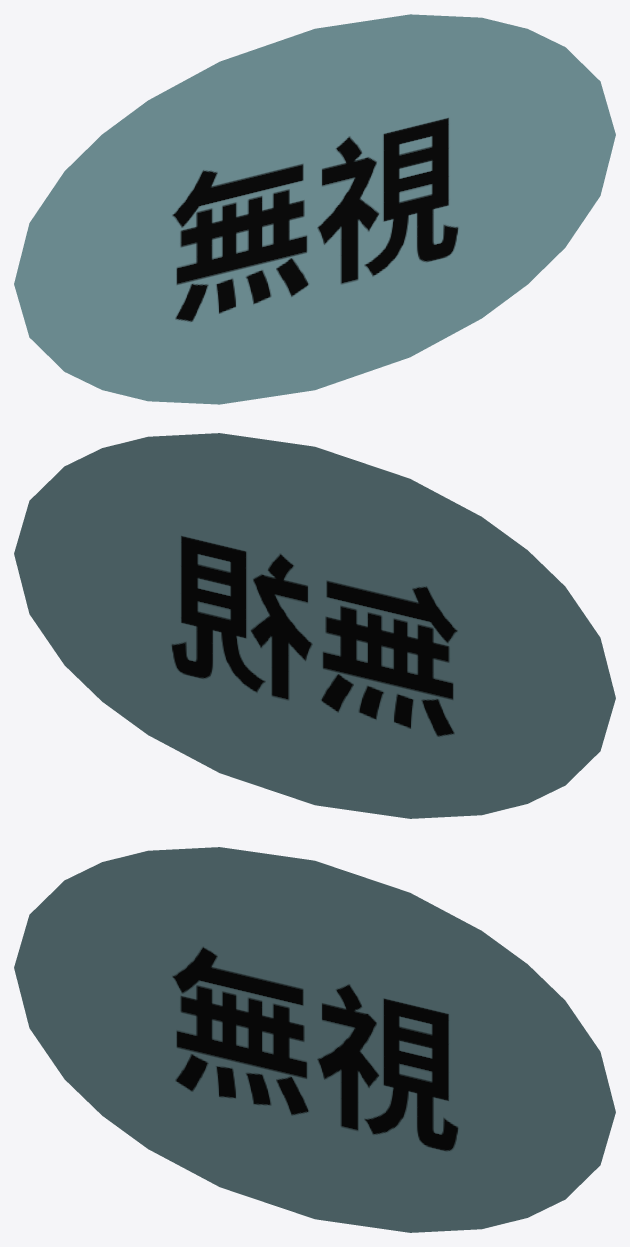
The picture shows the model from 3 angles, top to bottom: view 1: azimuth 30°, elevation 25°; view 2: azimuth 150°, elevation 25°; view 3: azimuth 330°, elevation 25°; orthographic projection.
Visible parts, largest first — view 1: Q1:NO; view 2: Q1:NO; view 3: Q1:NO.
Boxes of the visible parts, x1,y1,x2,y2 form: Q1:NO: (14,14,615,404); Q1:NO: (14,433,615,818); Q1:NO: (14,847,615,1232).
Bounding box in the file's own units: 9.11 × 5.21 × 0.0647.
1 material, 1 textured.
